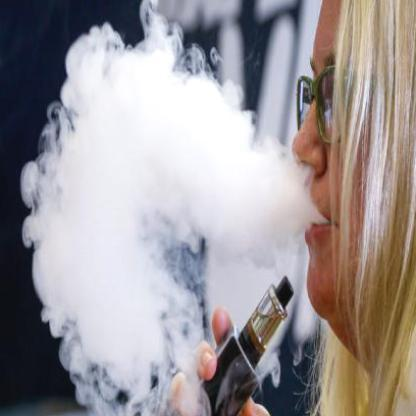person: (300, 1, 415, 415)
smoke: (25, 16, 297, 271), (32, 273, 211, 415)
